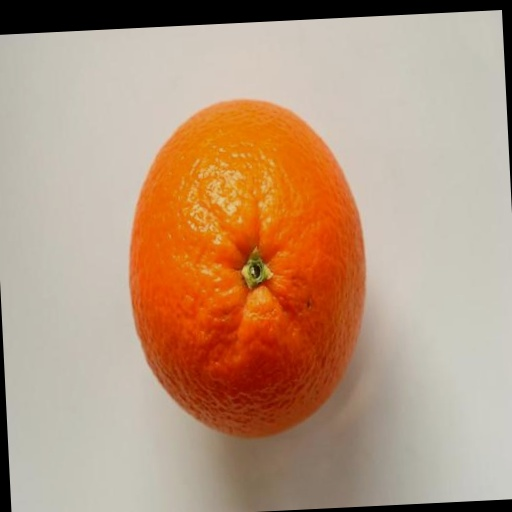fruit: (130, 100, 365, 437)
